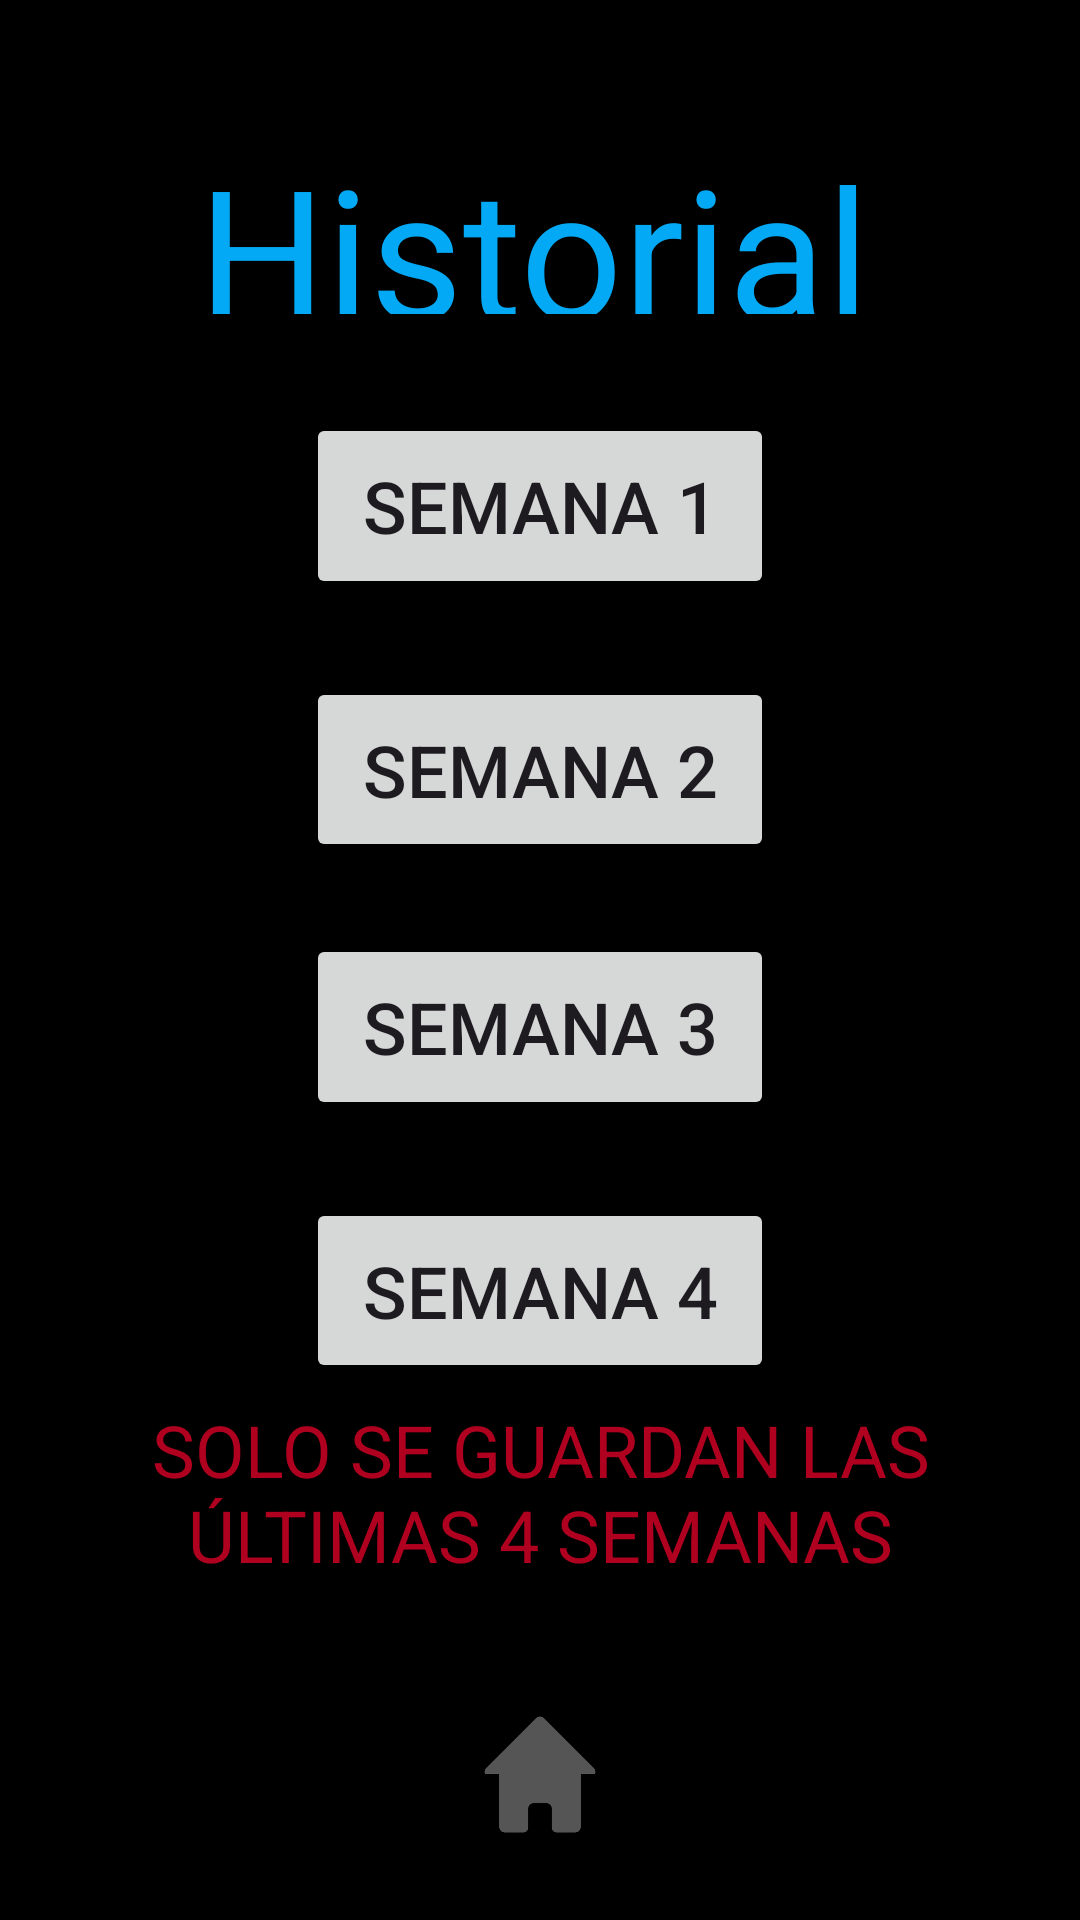

Screen size 1080 x 1920. Icon name, then its center in pixels as point (x, y):
casa: point (540, 1774)
